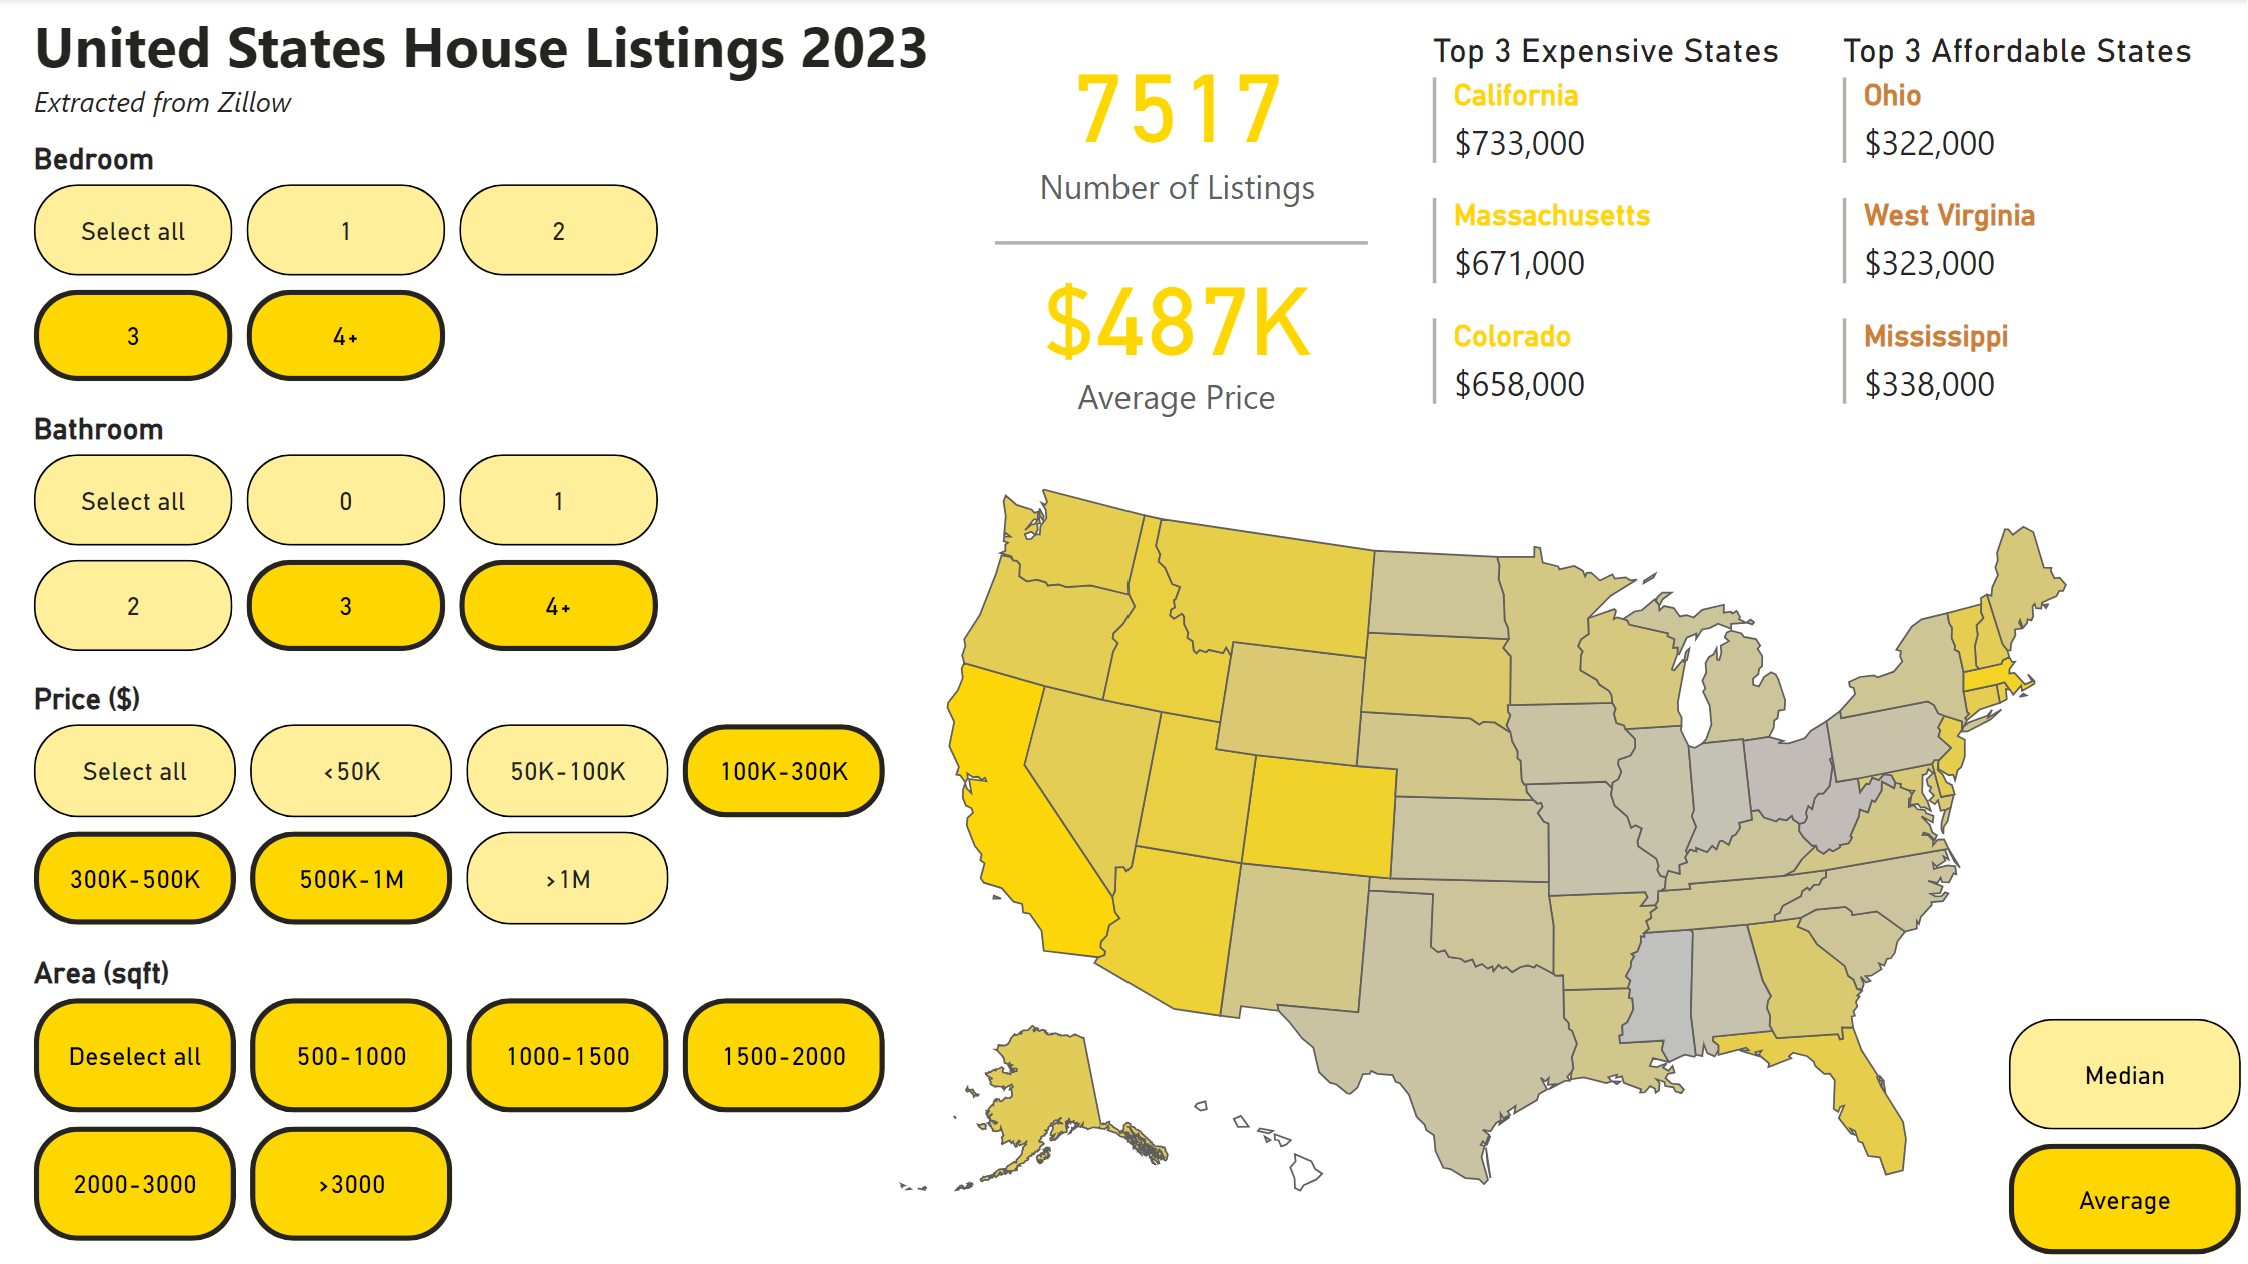

Layout of this report page (visuals, bound fields, positions):
{"tool":"powerbi","page":{"name":"Main","canvas":[1280,720],"ordinal":0},"visuals":[{"type":"multiRowCard","title":"Top 3 Expensive States","fields":{"Values":["cleaned_df.State Name","cleaned_df.Avg/Med Price"]},"box":[810,18.6,214.3,240],"z":0},{"type":"card","fields":{"Values":["cleaned_df.Avg/Med Price"]},"box":[562.4,123.8,215.7,127.5],"z":0,"group":"g3"},{"type":"multiRowCard","title":"Top 3 Affordable States","fields":{"Values":["cleaned_df.State Name","cleaned_df.Avg/Med Price"]},"box":[1042.9,18.6,214.3,240],"z":1000},{"type":"card","fields":{"Values":["cleaned_df.Avg/Med Title"]},"box":[562.4,212.7,214.8,31.7],"z":1000,"group":"g1"},{"type":"advancedSlicerVisual","title":"Price ($)","fields":{"Values":["cleaned_df.Price Class"]},"box":[14.8,389,494.8,143.3],"z":2000},{"type":"advancedSlicerVisual","fields":{"Values":["cleaned_df.Bedroom Class"]},"box":[14.3,81.4,365.7,142.9],"z":3000},{"type":"advancedSlicerVisual","fields":{"Values":["cleaned_df.Bathroom Class"]},"box":[14.3,235.7,365.7,142.9],"z":4000},{"type":"advancedSlicerVisual","fields":{"Values":["cleaned_df.Area Class"]},"box":[14.8,544.8,494.8,168.3],"z":5000},{"type":"card","fields":{"Values":["CountNonNull(cleaned_df.Price)"]},"box":[562.4,4.3,215.7,127.1],"z":6000,"group":"g2"},{"type":"shapeMap","fields":{"Value":["cleaned_df.Avg/Med Price"],"Category":["cleaned_df.State Name"]},"box":[470,252.9,748.6,452.9],"z":6000},{"type":"textbox","box":[14.3,0,532.9,85.7],"z":7000},{"type":"group","id":"g1","title":"Group 1","box":[562.4,61.1,215.7,190.2],"z":8000,"group":"g2"},{"type":"advancedSlicerVisual","fields":{"Values":["Calculation Methods.Cal Method"]},"box":[1137.1,575.7,142.9,144.3],"z":8000},{"type":"group","id":"g2","title":"Group 3","box":[562.4,4.3,215.7,246.9],"z":9000},{"type":"group","id":"g3","title":"Group 2","box":[562.4,61.1,215.7,190.2],"z":11001,"group":"g1"},{"type":"shape","box":[566.7,61.1,211.4,155.7],"z":11001,"group":"g3"}]}

Visuals, with their boxes in screenshot pixels (x1, y1, x2, y2), scaled from the page's 1280x720 canvas onto the 2248x1264 screenshot:
"Top 3 Expensive States" multiRowCard: <region>1423, 33, 1799, 454</region>
card - cleaned_df.Avg/Med Price: <region>988, 217, 1367, 441</region>
"Top 3 Affordable States" multiRowCard: <region>1832, 33, 2208, 454</region>
card - cleaned_df.Avg/Med Title: <region>988, 373, 1365, 429</region>
"Price ($)" advancedSlicerVisual: <region>26, 683, 895, 934</region>
advancedSlicerVisual - cleaned_df.Bedroom Class: <region>25, 143, 667, 394</region>
advancedSlicerVisual - cleaned_df.Bathroom Class: <region>25, 414, 667, 665</region>
advancedSlicerVisual - cleaned_df.Area Class: <region>26, 956, 895, 1252</region>
card - CountNonNull(cleaned_df.Price): <region>988, 8, 1367, 231</region>
shapeMap - cleaned_df.Avg/Med Price x cleaned_df.State Name: <region>825, 444, 2140, 1239</region>
textbox: <region>25, 0, 961, 150</region>
"Group 1" group: <region>988, 107, 1367, 441</region>
advancedSlicerVisual - Calculation Methods.Cal Method: <region>1997, 1011, 2247, 1263</region>
"Group 3" group: <region>988, 8, 1367, 441</region>
"Group 2" group: <region>988, 107, 1367, 441</region>
shape: <region>995, 107, 1367, 381</region>
